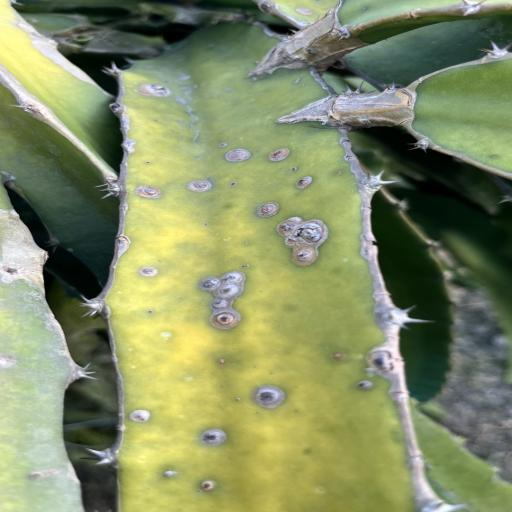stemcanker: (140, 116, 192, 140), (249, 363, 282, 378), (196, 476, 222, 494), (155, 467, 185, 479), (216, 357, 236, 369), (171, 292, 192, 303), (228, 394, 245, 407), (227, 180, 245, 190), (249, 410, 265, 421), (144, 307, 161, 316), (241, 260, 253, 272), (210, 142, 232, 148), (332, 170, 351, 176), (239, 238, 253, 246), (204, 199, 218, 207), (197, 296, 211, 304), (219, 202, 235, 209), (149, 221, 160, 231), (287, 167, 305, 173), (200, 221, 214, 228), (145, 160, 158, 167), (203, 174, 216, 181)
